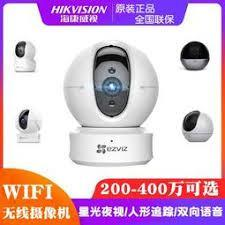maru: (40, 45, 165, 130), (14, 41, 34, 66)
